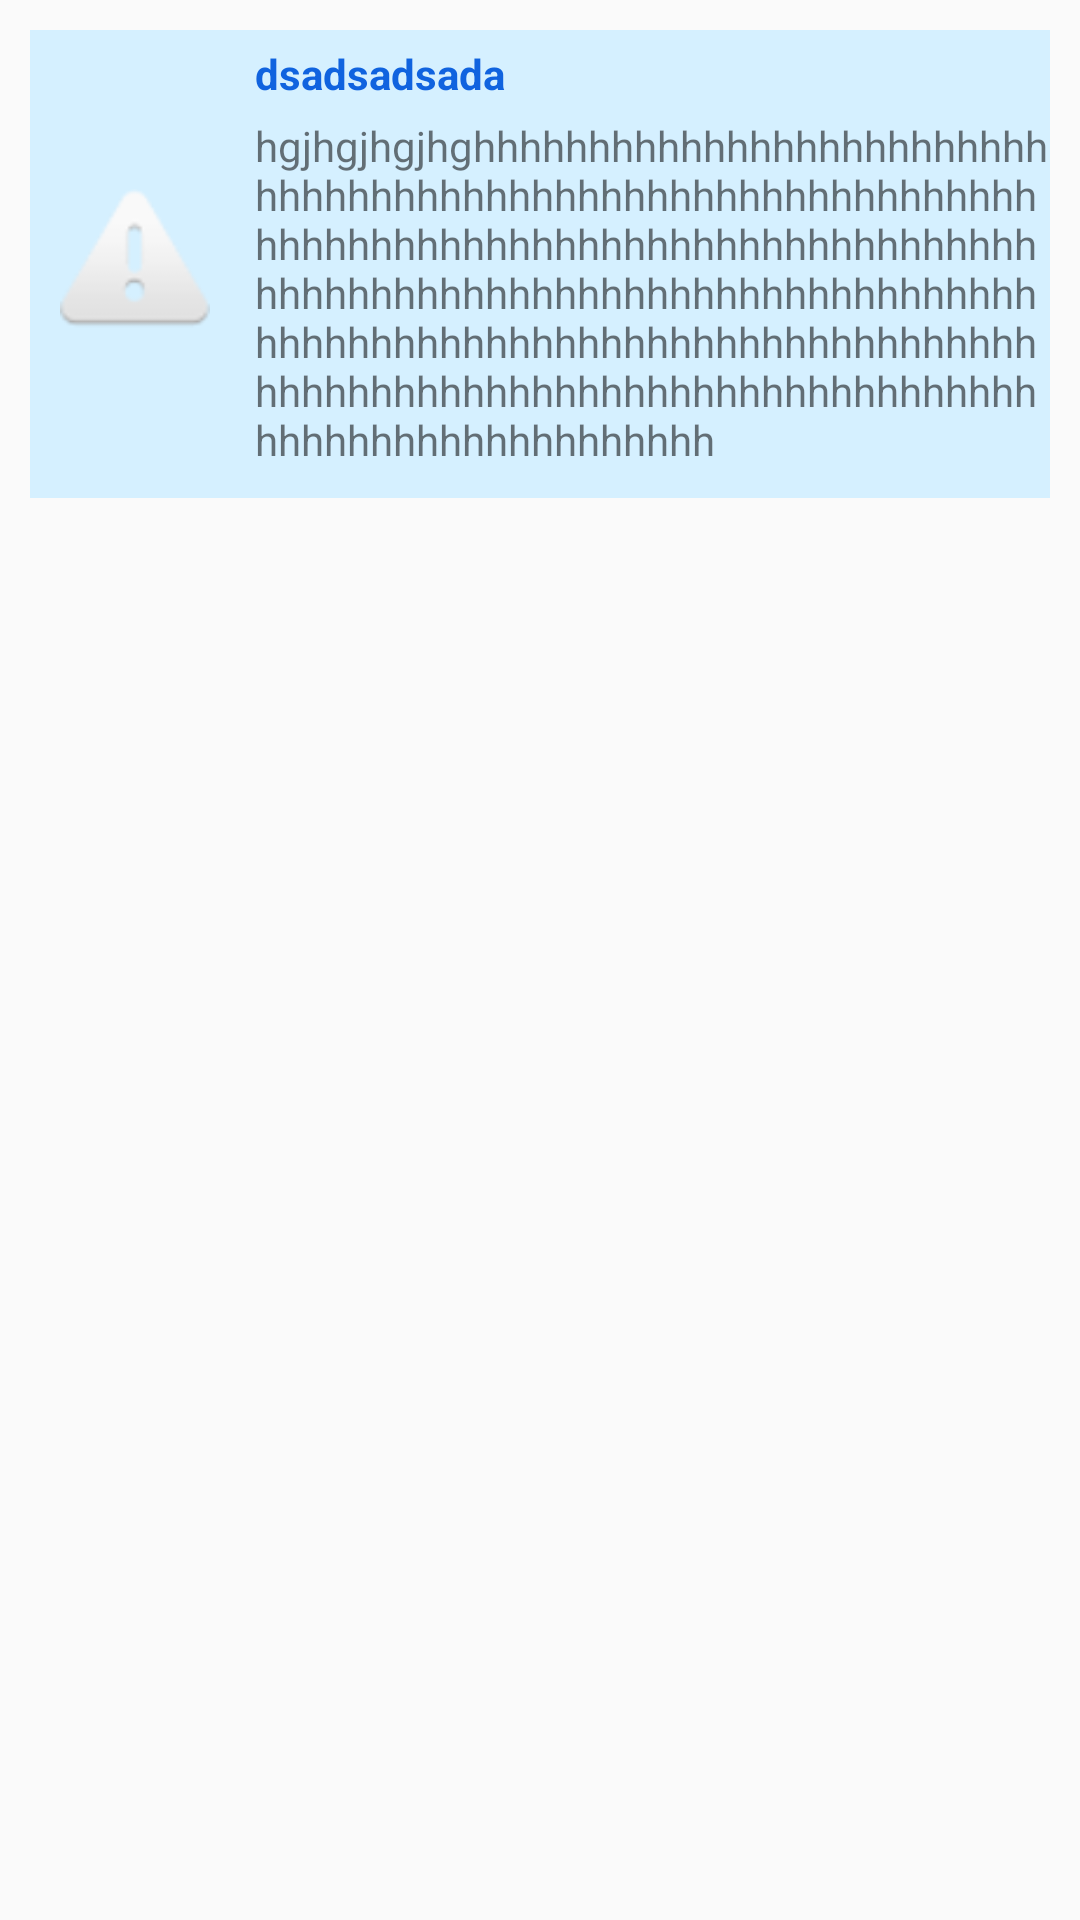

Screen size 1080 × 1920. Icon name, then its center in pixels as (x,y):
alert: (135,258)
